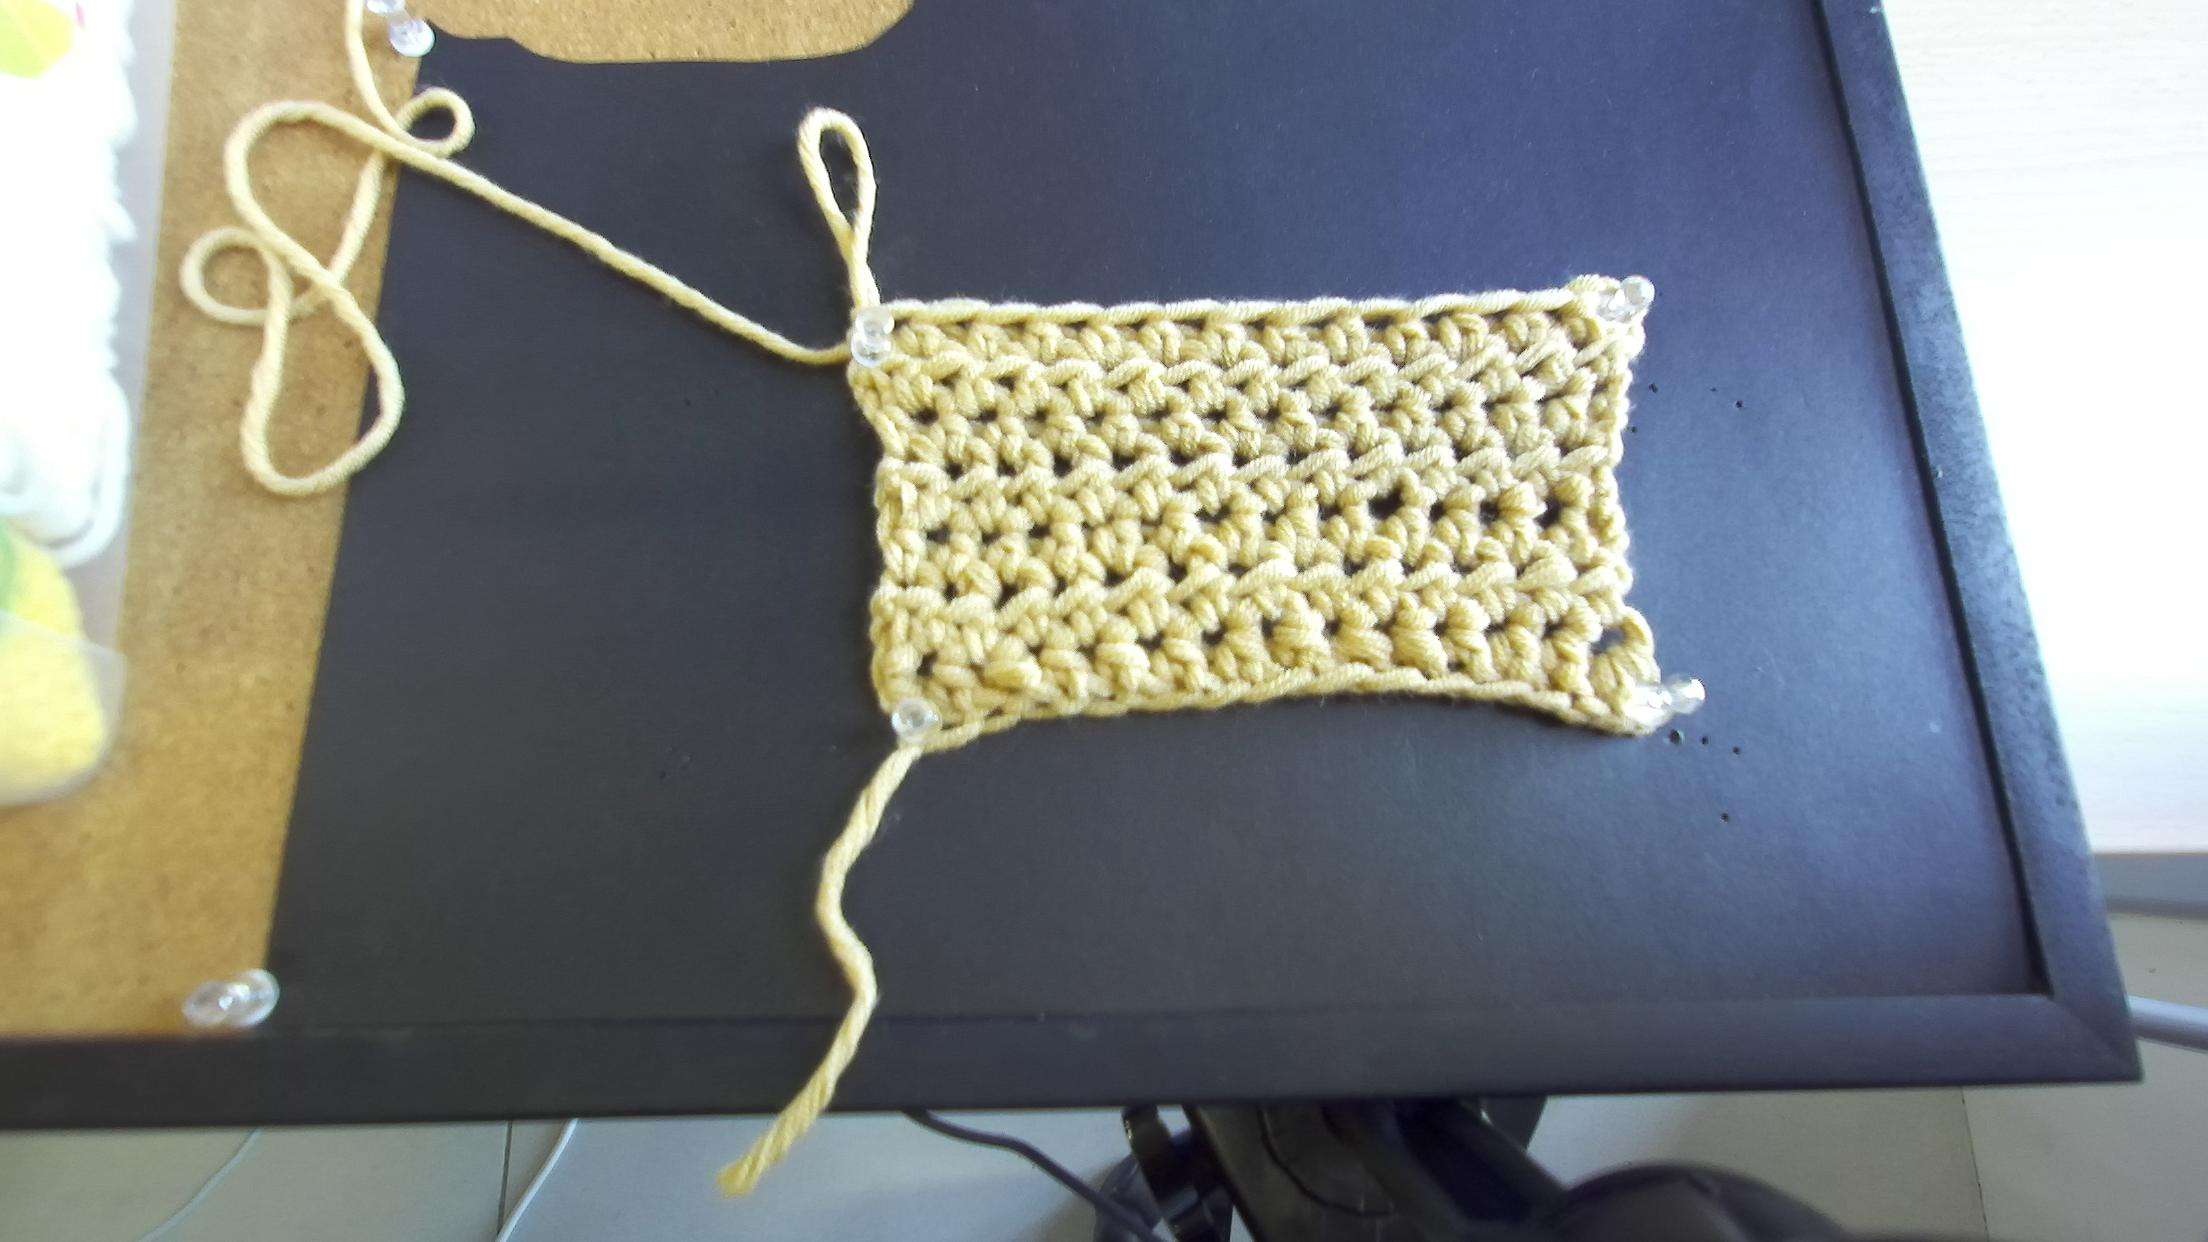hole: (1115, 315, 1148, 335), (1236, 315, 1266, 337), (937, 317, 975, 334), (1419, 308, 1451, 326), (1298, 315, 1336, 331), (1172, 317, 1206, 334), (1365, 315, 1398, 331), (1480, 308, 1510, 325), (1001, 320, 1028, 338), (893, 312, 913, 332), (1542, 308, 1563, 325), (1059, 320, 1087, 331)
swatch: (842, 278, 1705, 757)
